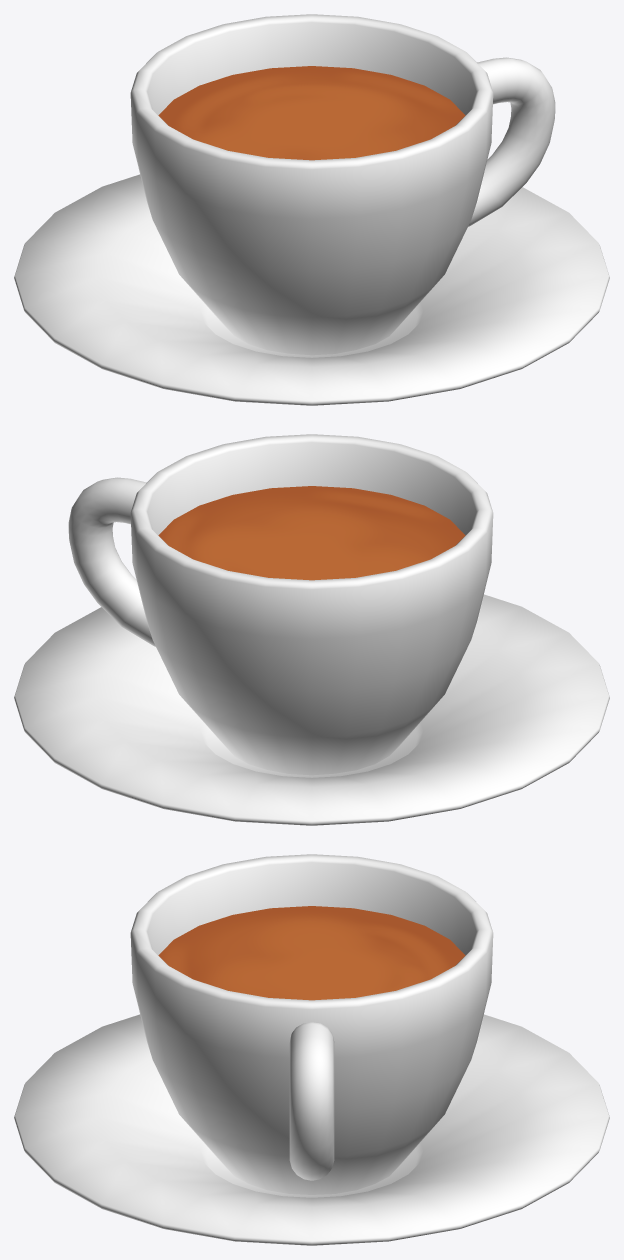
Rendered from TeaCup.fbx.
3 renders of one model, top to bottom at view 1: azimuth 30°, elevation 25°; view 2: azimuth 150°, elevation 25°; view 3: azimuth 270°, elevation 25°, orthographic.
Visible parts, largest first — view 1: Circle; view 2: Circle; view 3: Circle.
Part boxes in pixels (x1,y1,x2,y2): Circle: (14, 14, 609, 405); Circle: (14, 434, 609, 825); Circle: (14, 854, 609, 1245).
Bounding box in the file's own units: 466 × 205 × 466.
